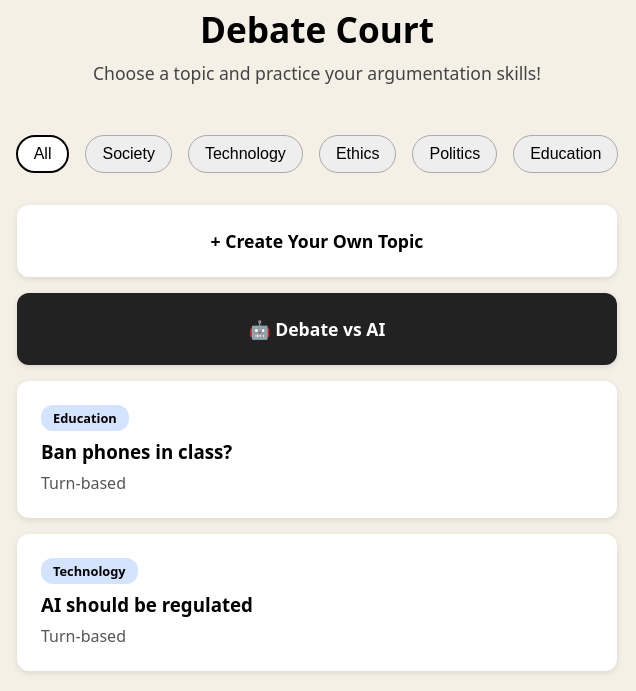
Scenario: TopicsPage › loads topics and filters by category
Check: the heading "Ban phones in class?" is shown, box [41,439,232,464]
Check: the heading "AI should be regulated" is shown, box [41,592,253,617]
Click the button "Education". click: (566, 154)
box: [513,135,618,173]
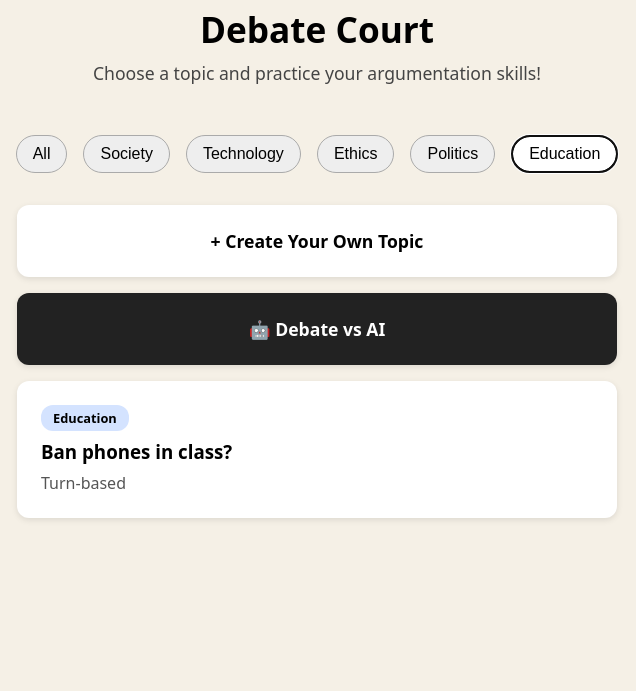
Check: the heading "Ban phones in class?" is shown, box [41,439,232,464]
Check: the heading "AI should be regulated" is gone
